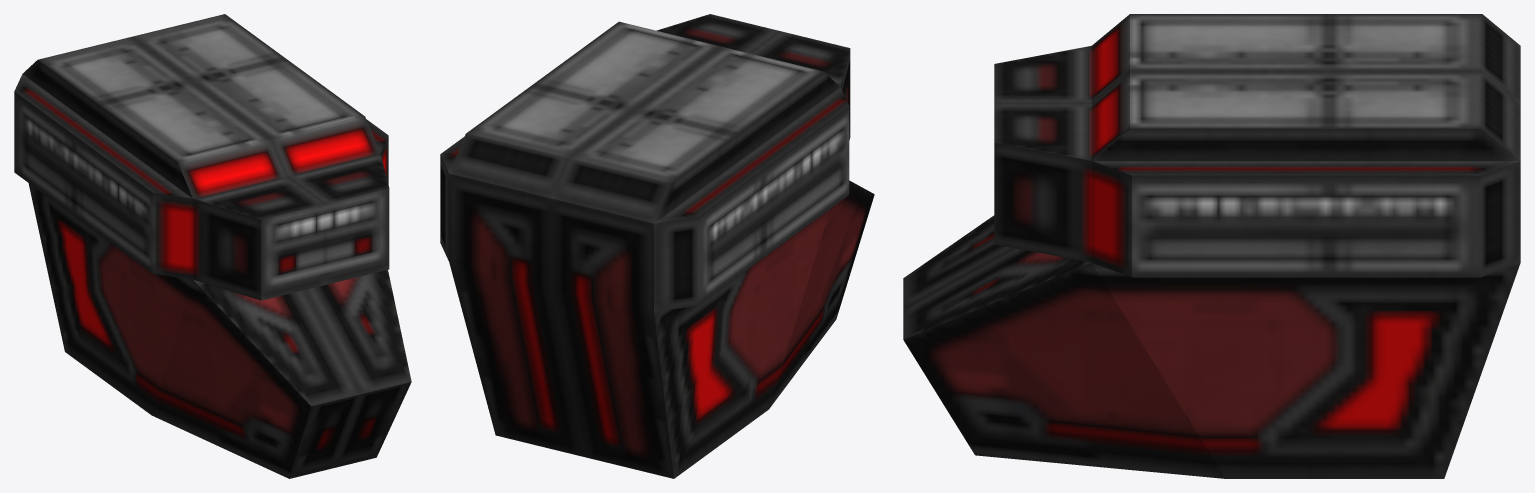
File: BFP_MediumBridge01.FBX
The picture shows the model from 3 angles, left to right: view 1: azimuth 30°, elevation 25°; view 2: azimuth 150°, elevation 25°; view 3: azimuth 270°, elevation 25°; orthographic projection. The views are drawn at different scales.
Parts seen in each view (by area): view 1: BFP_MediumCockpit01; view 2: BFP_MediumCockpit01; view 3: BFP_MediumCockpit01.
Boxes of the visible parts, bbox=[...] form: BFP_MediumCockpit01: bbox=[14, 14, 411, 478]; BFP_MediumCockpit01: bbox=[440, 14, 874, 478]; BFP_MediumCockpit01: bbox=[903, 14, 1520, 478].
Size of the model in its own units: 97.63 by 112 by 176.
Materials: 1 (1 with a texture image).
